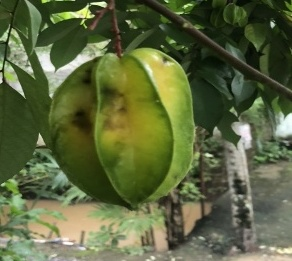Khe: (46, 45, 200, 218)
